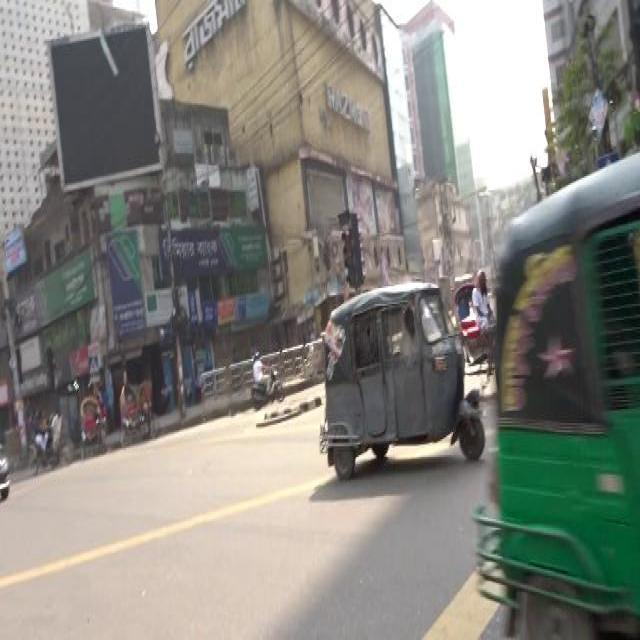motorbike: (249, 348, 283, 406)
rickshaw: (452, 266, 496, 388), (24, 400, 74, 471), (118, 377, 158, 444), (77, 389, 106, 457)
three wheelers -CNG-: (466, 153, 636, 629), (312, 276, 488, 481)
